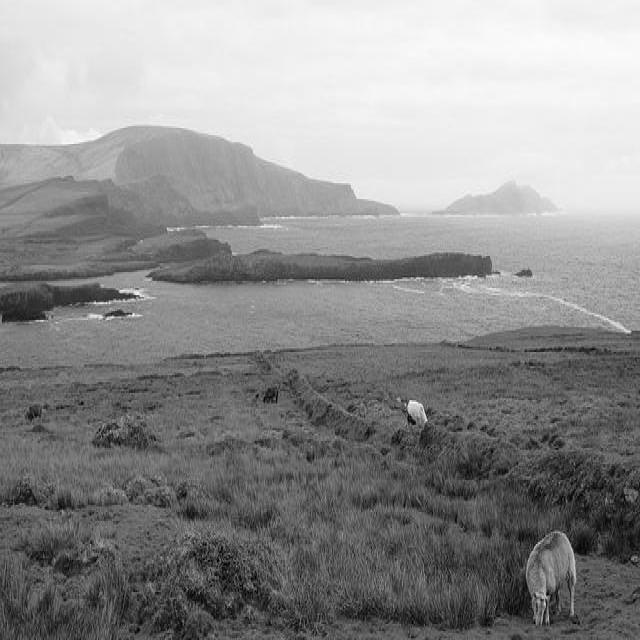Sheep: (525, 530, 576, 628)
